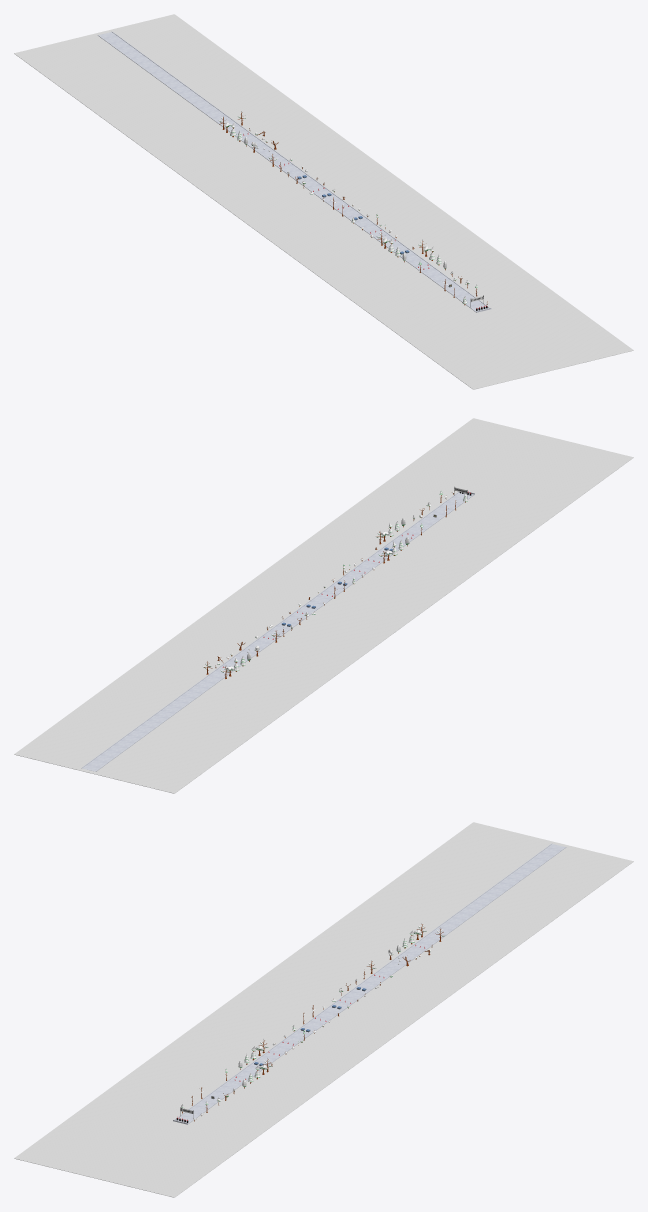
Rendered from map2.glb.
3 views of the same model, one above another, from view 1: azimuth 30°, elevation 25°; view 2: azimuth 150°, elevation 25°; view 3: azimuth 330°, elevation 25° (orthographic).
Visible parts, largest first — view 1: ground, snowblock-area, left_ground, right_ground; view 2: ground, snowblock-area, left_ground, right_ground; view 3: ground, snowblock-area, right_ground, left_ground.
Boxes of the visible parts, x1,y1,x2,y2 form: ground: [14, 14, 633, 389]; snowblock-area: [99, 32, 488, 311]; left_ground: [112, 31, 489, 307]; right_ground: [97, 35, 476, 312]; ground: [14, 418, 633, 793]; snowblock-area: [82, 492, 473, 771]; left_ground: [81, 491, 459, 768]; right_ground: [95, 494, 474, 771]; ground: [14, 822, 633, 1197]; snowblock-area: [175, 844, 565, 1123]; right_ground: [174, 843, 551, 1119]; left_ground: [188, 847, 566, 1123].
Size of the model in its own units: 240 by 24.84 by 1189.
Materials: 8 (7 with a texture image).
